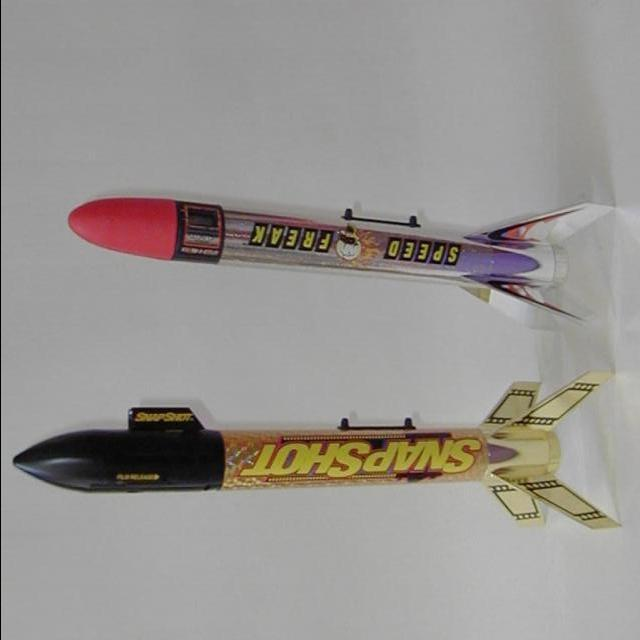missile: (0, 367, 617, 532), (45, 192, 597, 319)
